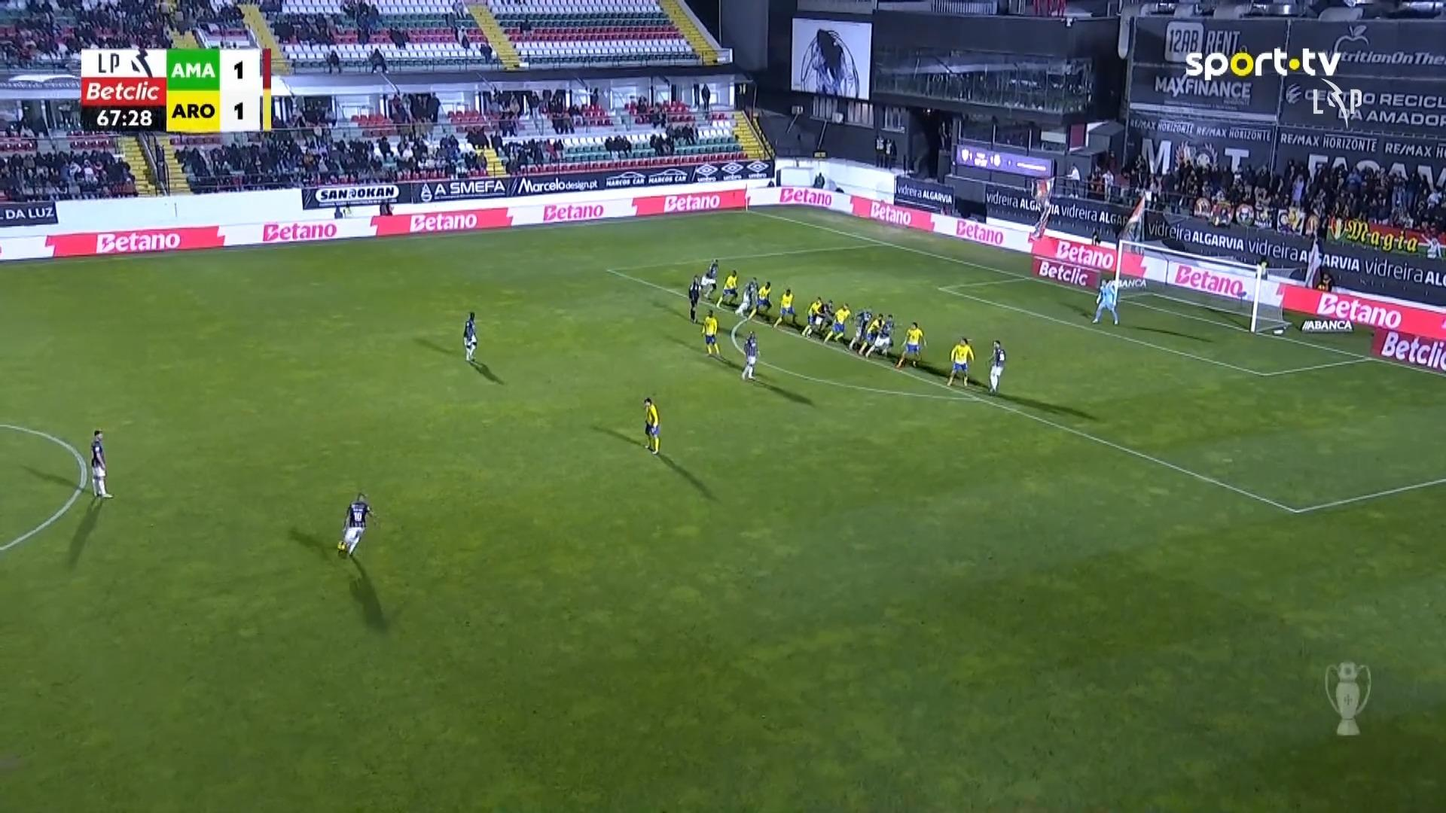ball: (336, 540, 346, 551)
goalkeeper: (1091, 276, 1119, 324)
player: (336, 492, 372, 558), (89, 428, 113, 498), (945, 336, 975, 388), (895, 321, 925, 368), (864, 316, 894, 360), (822, 304, 853, 345), (641, 396, 660, 455), (986, 339, 1006, 394), (857, 314, 883, 356), (772, 287, 797, 329), (848, 308, 872, 351), (700, 309, 720, 356), (714, 270, 739, 307), (740, 330, 758, 380), (736, 277, 759, 316), (798, 297, 821, 336), (462, 311, 477, 363), (703, 257, 719, 300), (816, 299, 834, 336)
referee: (687, 273, 702, 321)
